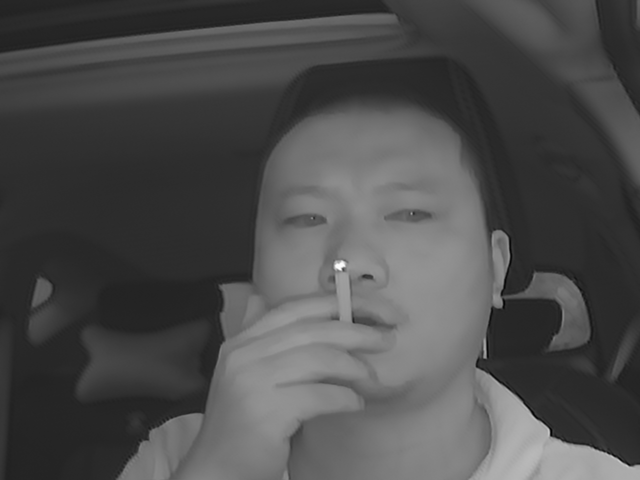hand: (250, 292, 392, 433)
